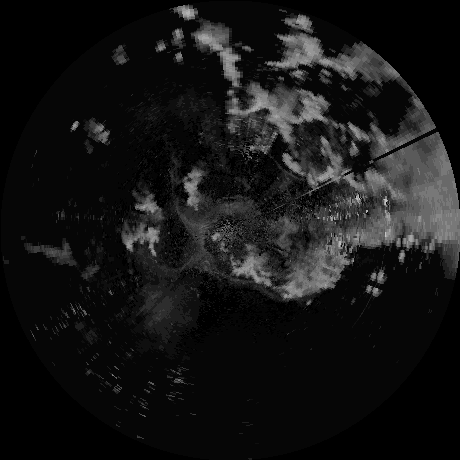frontgust: (227, 277, 277, 296), (269, 156, 305, 181), (169, 157, 180, 214)
